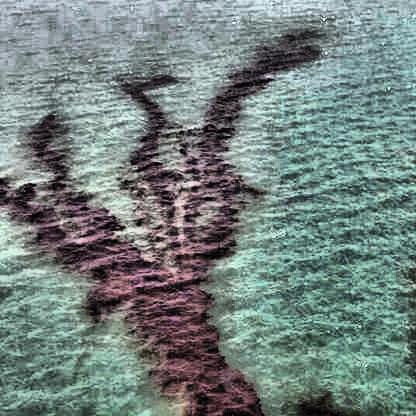truecolor: (127, 52, 271, 282)
